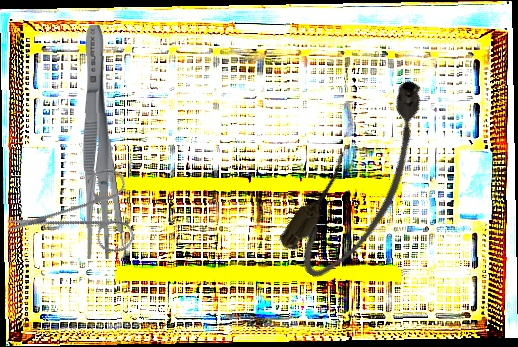Cannula: (271, 69, 458, 291)
Dressing Forceps: (78, 24, 115, 260)
Iris Scissors: (2, 135, 162, 295)
Scalpel Handle: (101, 130, 126, 248)
